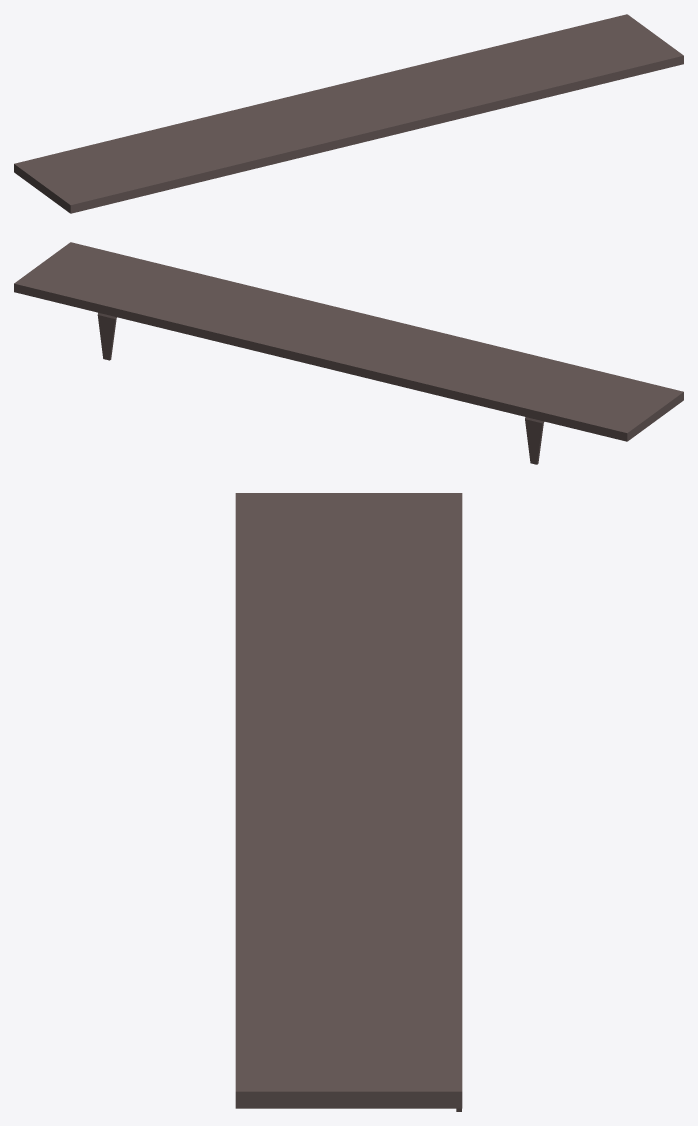
File: Shelf_1.fbx
3 renders of one model, top to bottom at view 1: azimuth 30°, elevation 25°; view 2: azimuth 150°, elevation 25°; view 3: azimuth 270°, elevation 25°, orthographic. The views are drawn at different scales.
Parts seen in each view (by area): view 1: shelf; view 2: shelf; view 3: shelf.
Boxes of the visible parts, x1,y1,x2,y2 form: shelf: (14, 14, 683, 213); shelf: (14, 242, 683, 464); shelf: (235, 493, 462, 1111).
Size of the model in its own units: 150 by 12.55 by 24.
